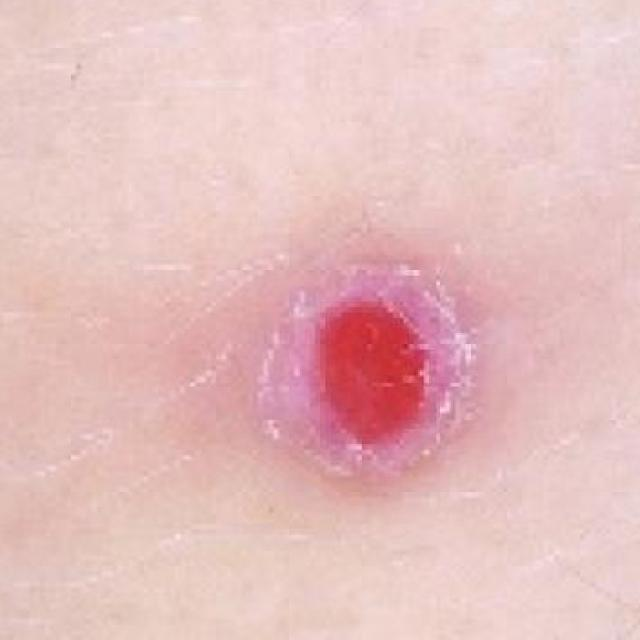VASC: (234, 155, 546, 550)
